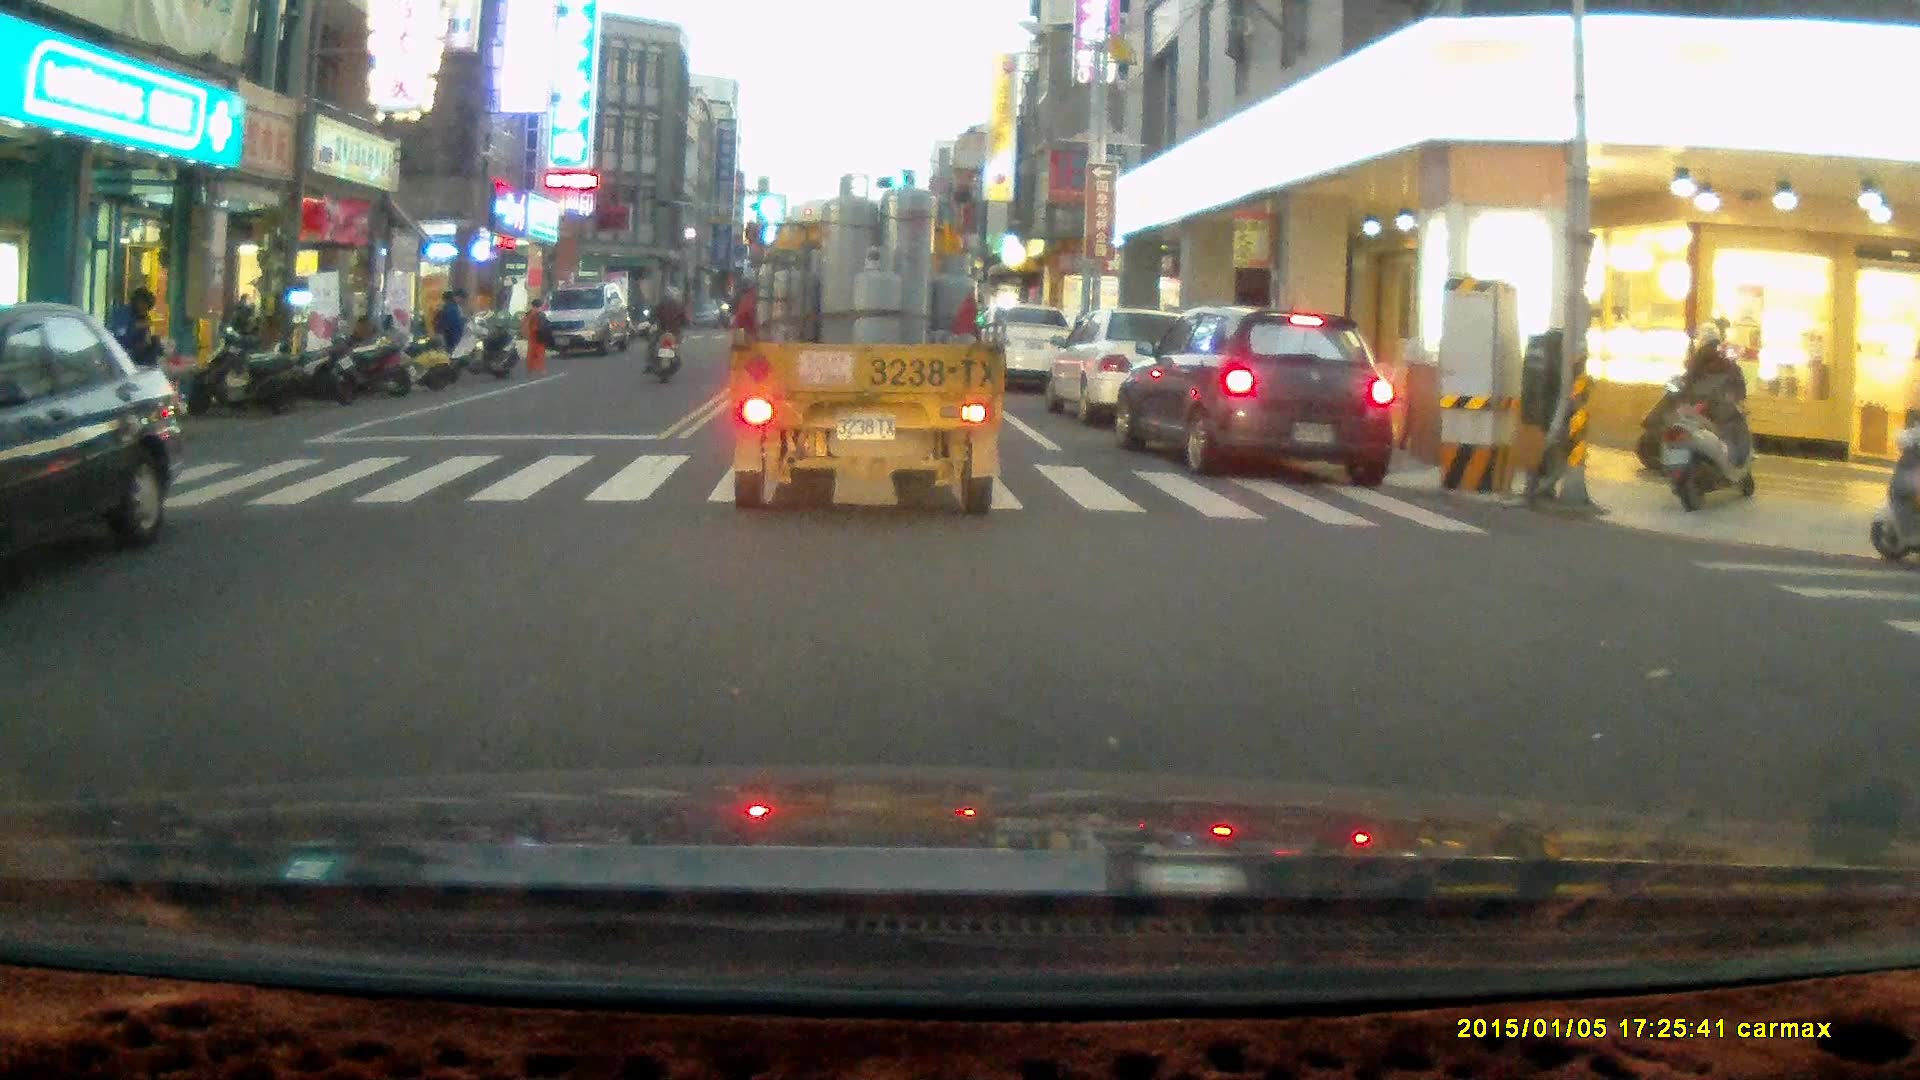pedestrian: (108, 286, 167, 408), (433, 283, 469, 371), (520, 294, 555, 369)
rider: (1635, 316, 1752, 476), (641, 278, 689, 380)
vehicle: (730, 166, 1006, 518), (1114, 306, 1393, 487), (1, 304, 185, 564), (1054, 306, 1226, 426), (975, 306, 1082, 396), (535, 283, 634, 357)
